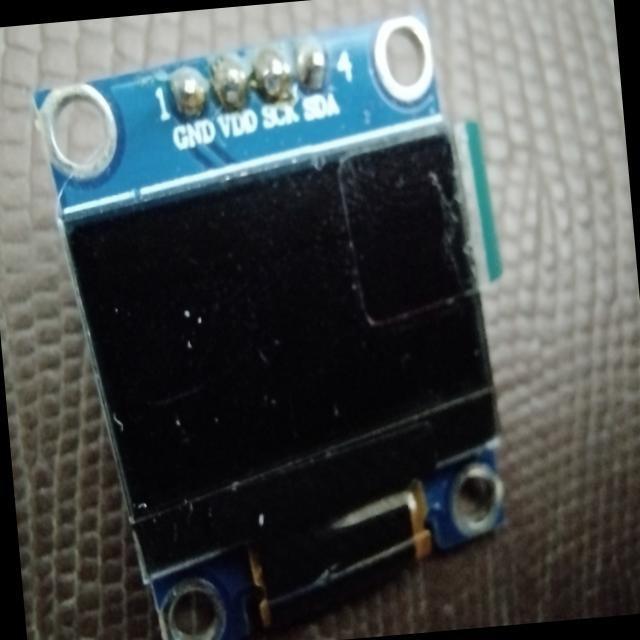oled: (19, 0, 546, 640)
